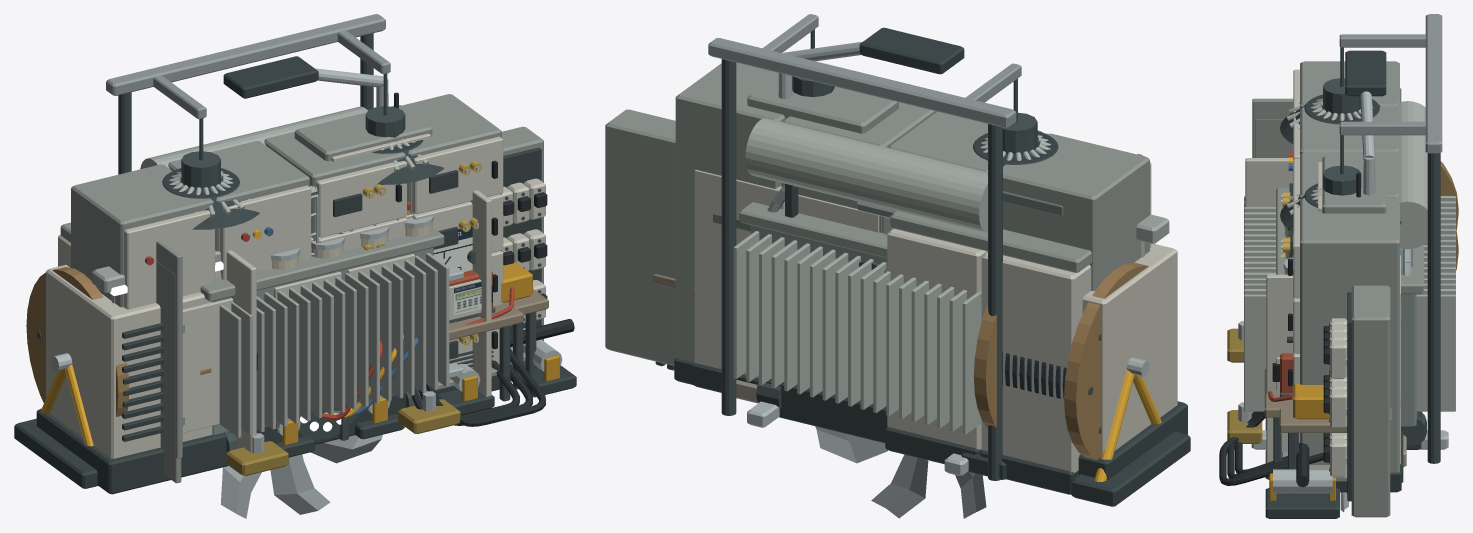
Rendered from exhibits.glb.
3 views of the same model, side by side, from view 1: azimuth 30°, elevation 25°; view 2: azimuth 150°, elevation 25°; view 3: azimuth 270°, elevation 25° (orthographic). The views are drawn at different scales.
Visible parts, largest first — view 1: Exhibit01, Exhibit09, Exhibit04, Exhibit14, Exhibit06, Exhibit03, Exhibit02, Exhibit15, Impeller, Exhibit10, Exhibit13, Exhibit11 (+2 smaller); view 2: Exhibit04, Exhibit09, Exhibit01, Exhibit03, Exhibit14, Exhibit06, Exhibit02, Exhibit15, Impeller, Exhibit08; view 3: Exhibit01, Exhibit04, Exhibit09, Exhibit14, Exhibit06, Exhibit15, Exhibit02, Exhibit13, Exhibit07, Exhibit10, Exhibit03, Exhibit08 (+1 smaller).
Part boxes in pixels (x1,y1,x2,y2): Exhibit01: [71, 94, 503, 391]; Exhibit09: [36, 126, 547, 494]; Exhibit04: [140, 106, 460, 475]; Exhibit14: [106, 14, 443, 439]; Exhibit06: [14, 267, 576, 488]; Exhibit03: [58, 222, 523, 440]; Exhibit02: [215, 92, 475, 394]; Exhibit15: [92, 56, 388, 303]; Impeller: [220, 434, 382, 518]; Exhibit10: [156, 261, 533, 483]; Exhibit13: [449, 261, 548, 375]; Exhibit11: [271, 201, 463, 378]; Exhibit04: [733, 118, 987, 475]; Exhibit09: [605, 109, 1187, 479]; Exhibit01: [674, 62, 1151, 384]; Exhibit03: [885, 211, 1091, 494]; Exhibit14: [708, 14, 1058, 480]; Exhibit06: [961, 262, 1190, 506]; Exhibit02: [692, 74, 898, 392]; Exhibit15: [736, 27, 1169, 403]; Impeller: [815, 426, 986, 518]; Exhibit08: [713, 153, 1142, 231]; Exhibit01: [1281, 61, 1401, 492]; Exhibit04: [1227, 101, 1455, 449]; Exhibit09: [1219, 274, 1422, 517]; Exhibit14: [1280, 14, 1442, 463]; Exhibit06: [1265, 161, 1458, 518]; Exhibit15: [1345, 50, 1406, 466]; Exhibit02: [1287, 155, 1403, 482]; Exhibit13: [1268, 383, 1347, 494]; Exhibit07: [1245, 158, 1293, 206]; Exhibit10: [1255, 119, 1391, 455]; Exhibit03: [1264, 353, 1293, 463]; Exhibit08: [1252, 88, 1401, 326].
Size of the model in its own units: 6.26 by 5.41 by 2.73.
Materials: 5 (1 with a texture image).
